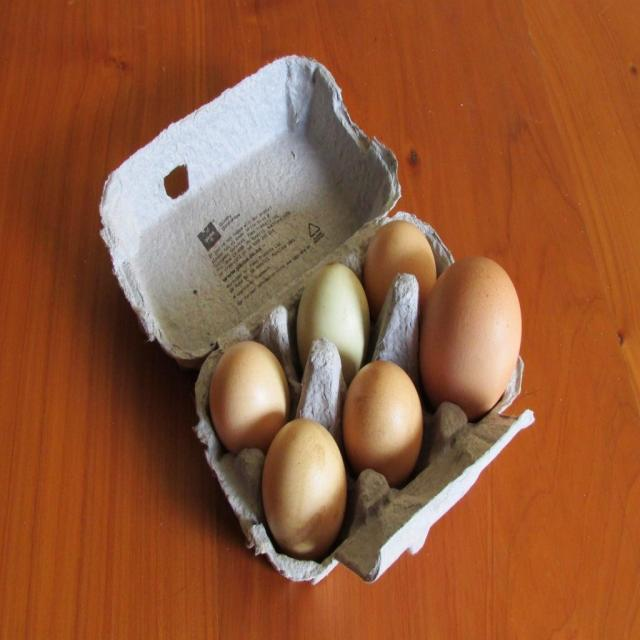Egg: (418, 252, 526, 428), (259, 414, 350, 560), (292, 262, 382, 382), (342, 356, 422, 488), (207, 337, 290, 452), (359, 213, 436, 310)
